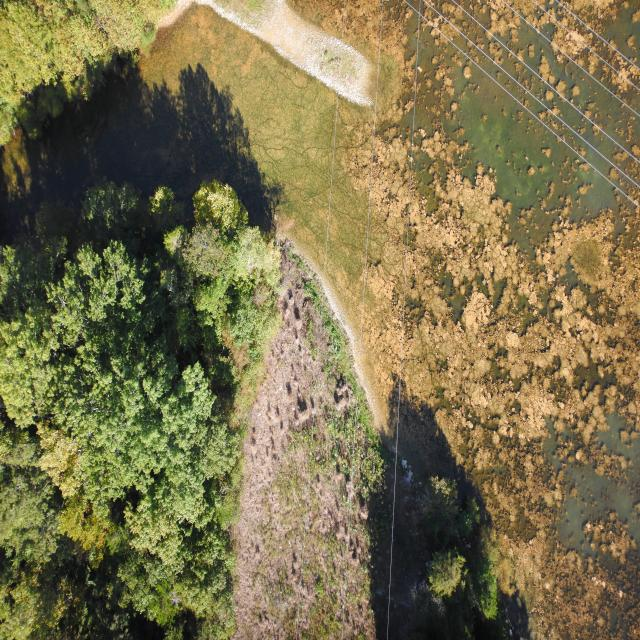Area of Interest: (5, 201, 275, 637)
